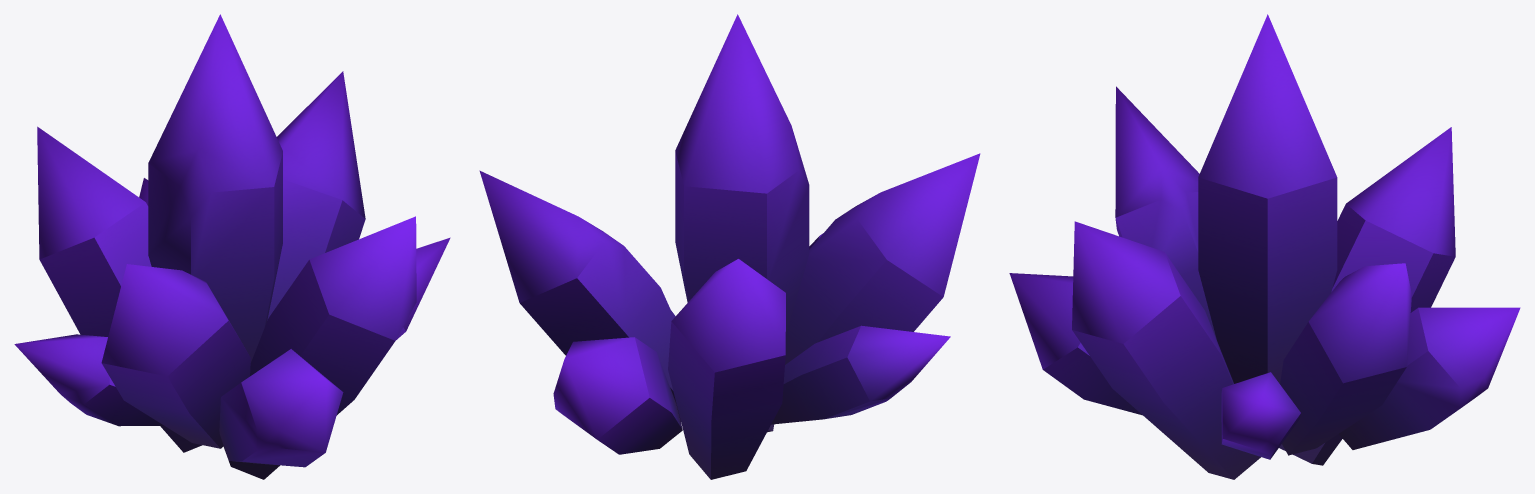
The model's file is mineral.fbx.
3 views of the same model, side by side, from view 1: azimuth 30°, elevation 25°; view 2: azimuth 150°, elevation 25°; view 3: azimuth 270°, elevation 25° (orthographic).
Parts seen in each view (by area): view 1: pCylinder23; view 2: pCylinder23; view 3: pCylinder23.
Part boxes in pixels (left/top/right/bottom): pCylinder23: left=14, top=14, right=450, bottom=479; pCylinder23: left=479, top=14, right=980, bottom=479; pCylinder23: left=1009, top=14, right=1520, bottom=479.
Bounding box in the file's own units: 15.57 × 15.26 × 15.64.
1 material, 1 textured.
